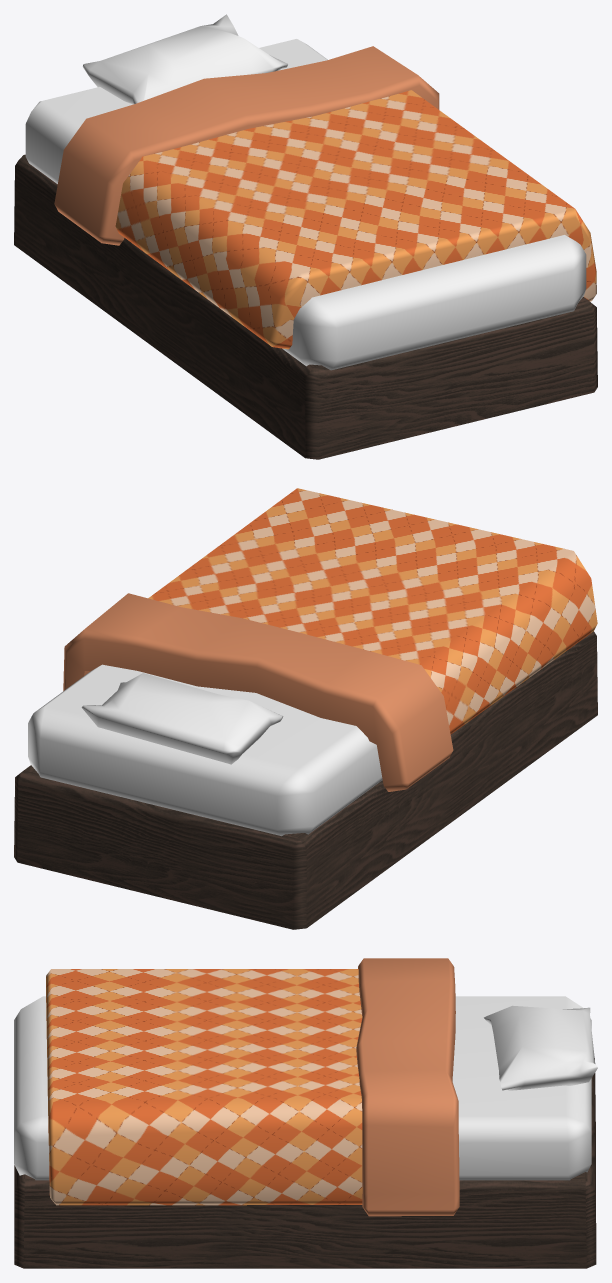
Rendered from bed_002.fbx.
3 renders of one model, top to bottom at view 1: azimuth 30°, elevation 25°; view 2: azimuth 150°, elevation 25°; view 3: azimuth 270°, elevation 25°, orthographic. The views are drawn at different scales.
Visible parts, largest first — view 1: bed_002; view 2: bed_002; view 3: bed_002.
Boxes of the visible parts, <box> form: bed_002: <box>14,14,597,459</box>; bed_002: <box>14,488,597,929</box>; bed_002: <box>14,958,597,1268</box>.
Bounding box in the file's own units: 164 × 246 × 85.06.
